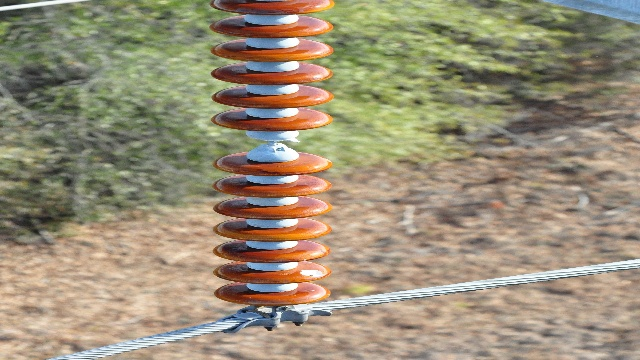broken_local: (246, 137, 310, 147), (297, 269, 324, 277)
insulator_unspecified: (212, 0, 333, 302)
